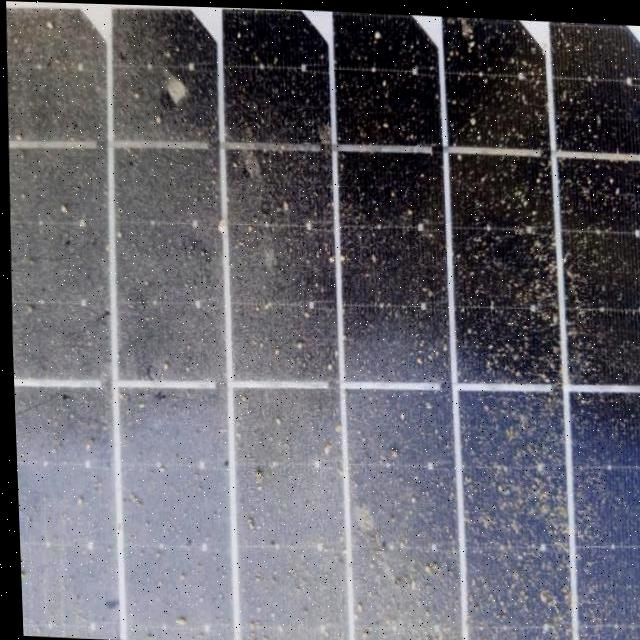Anomaly Solar Panel: (6, 0, 640, 640)
Surface Contaminant: (6, 0, 640, 640)
